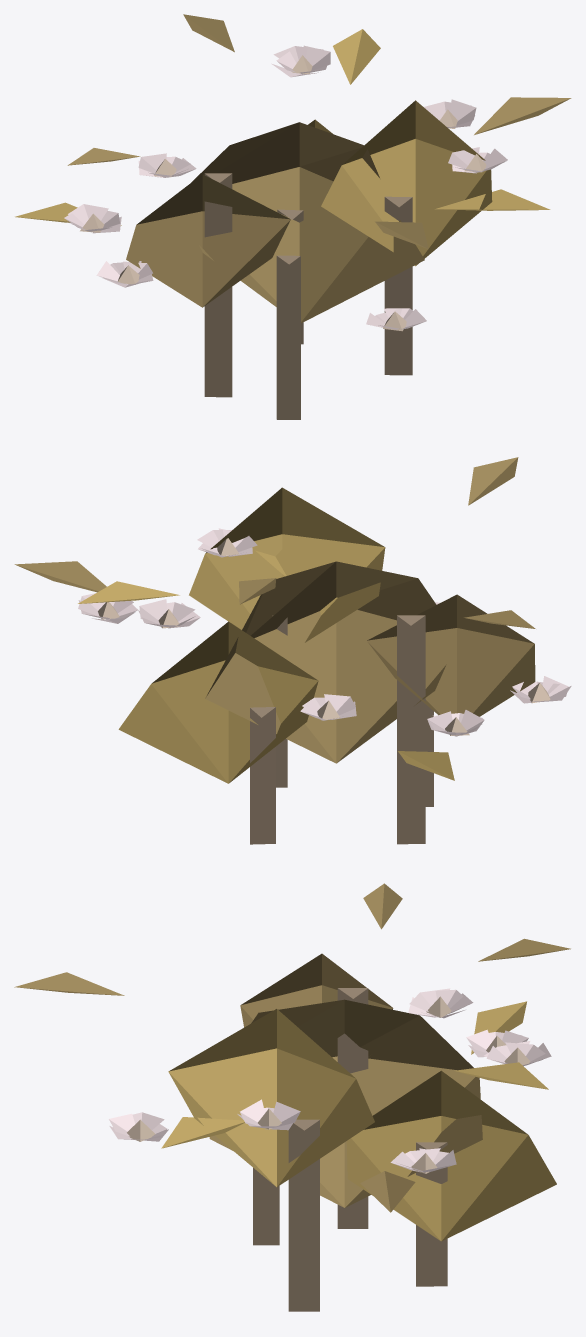
The model's file is guan.moli__autumn.glb.
3 views of the same model, one above another, from view 1: azimuth 30°, elevation 25°; view 2: azimuth 150°, elevation 25°; view 3: azimuth 270°, elevation 25° (orthographic). The views are drawn at different scales.
Visible parts, largest first — view 1: guan.moli__autumn; view 2: guan.moli__autumn; view 3: guan.moli__autumn.
Part boxes in pixels (x1,y1,x2,y2): guan.moli__autumn: [15, 14, 571, 419]; guan.moli__autumn: [14, 457, 571, 844]; guan.moli__autumn: [14, 883, 570, 1311].
Bounding box in the file's own units: 2.34 × 1.31 × 2.06.
